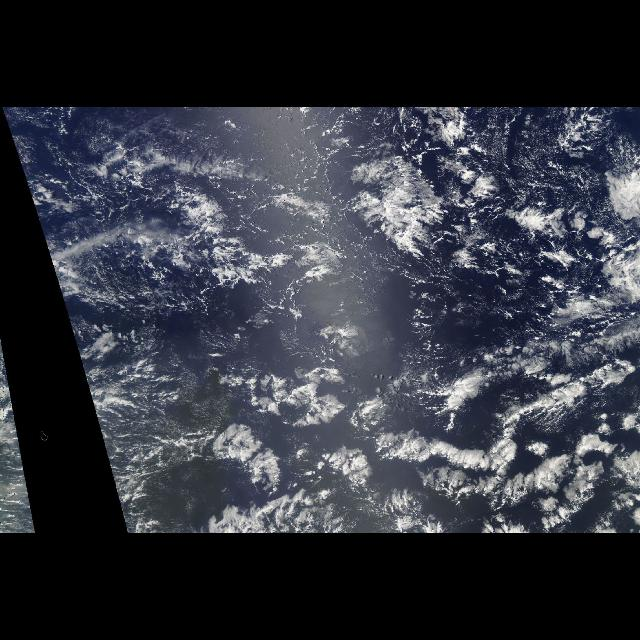Flower: (206, 354, 628, 530)
Gravel: (33, 123, 575, 375)
Sugar: (33, 114, 239, 346)
